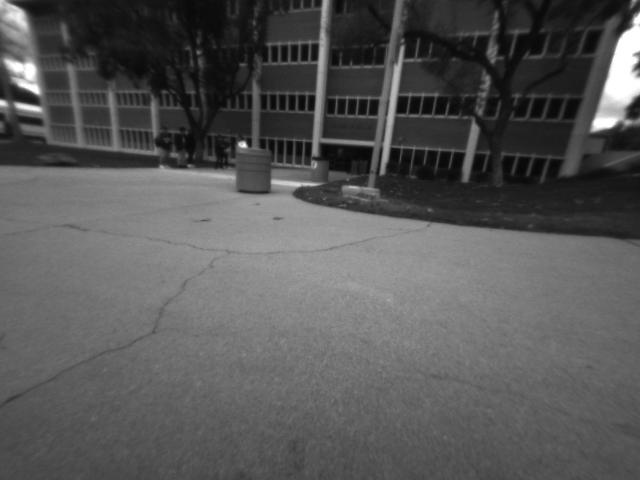trashcan: (231, 141, 278, 200), (304, 150, 331, 186)
